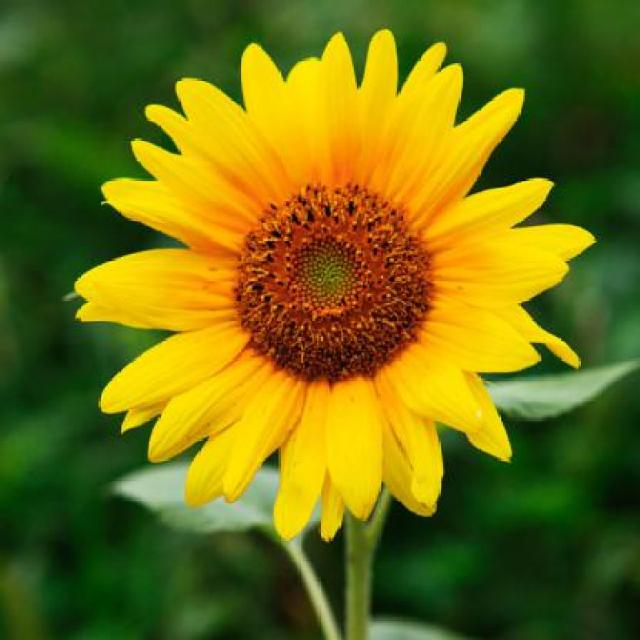sunflower: (78, 40, 578, 543)
